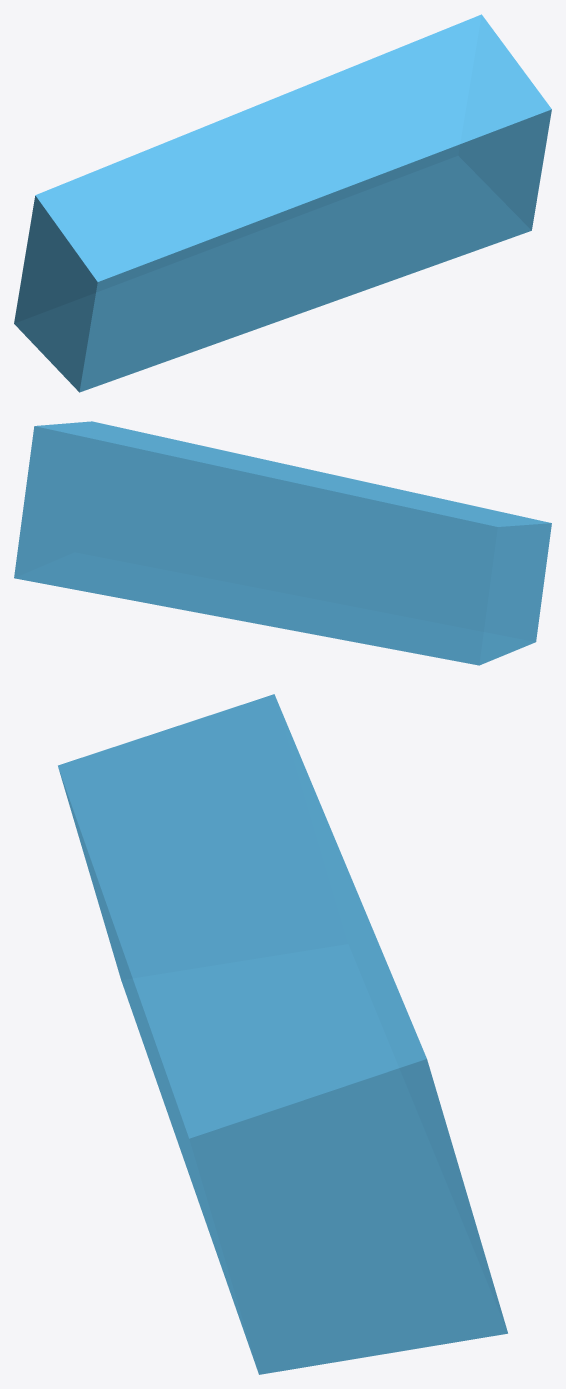
File: Event_421115418_HErechit_93.fbx
3 views of the same model, one above another, from view 1: azimuth 30°, elevation 25°; view 2: azimuth 150°, elevation 25°; view 3: azimuth 270°, elevation 25° (orthographic). The views are drawn at different scales.
Visible parts, largest first — view 1: Model; view 2: Model; view 3: Model.
Boxes of the visible parts, x1,y1,x2,y2 form: Model: (14,14,551,392); Model: (14,421,551,665); Model: (58,694,507,1374).
Bounding box in the file's own units: 1.06 × 0.3986 × 0.4835.
